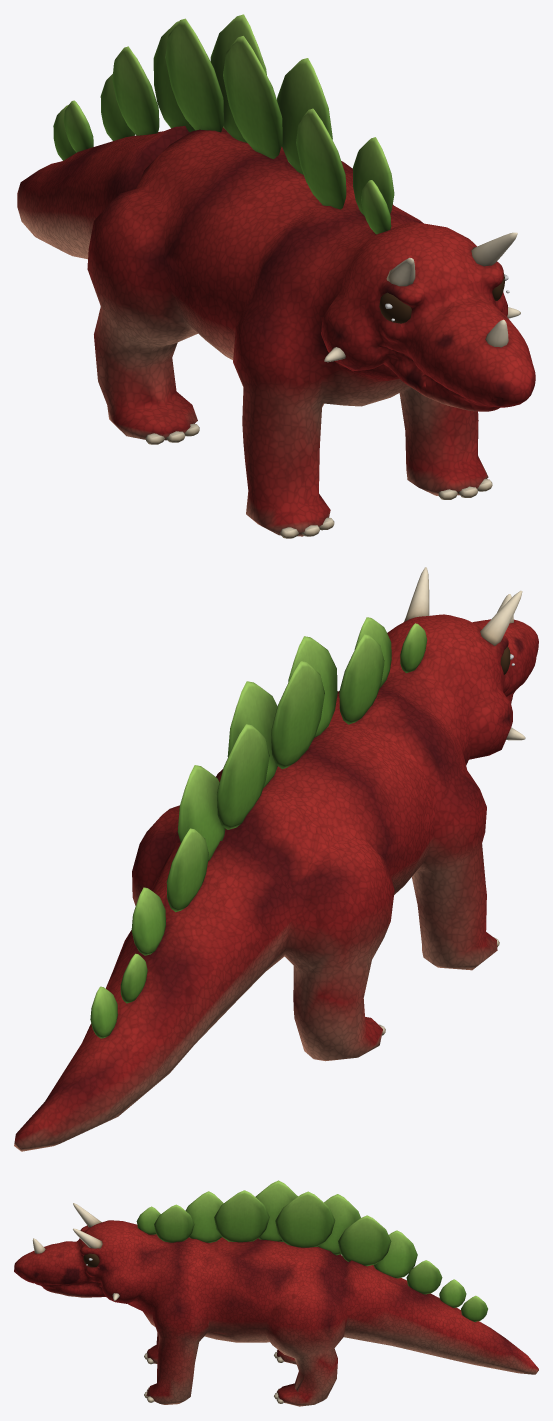
Rendered from redrex.fbx.
3 views of the same model, one above another, from view 1: azimuth 30°, elevation 25°; view 2: azimuth 150°, elevation 25°; view 3: azimuth 270°, elevation 25° (orthographic). The views are drawn at different scales.
Visible parts, largest first — view 1: RedRex_Body, RedRex_Eyes; view 2: RedRex_Body; view 3: RedRex_Body.
Boxes of the visible parts, x1,y1,x2,y2 form: RedRex_Body: (17, 14, 535, 538); RedRex_Eyes: (379, 272, 504, 323); RedRex_Body: (14, 567, 538, 1151); RedRex_Body: (14, 1180, 538, 1406).
Bounding box in the file's own units: 2.52 × 3.68 × 8.91.
2 materials, 1 textured.
